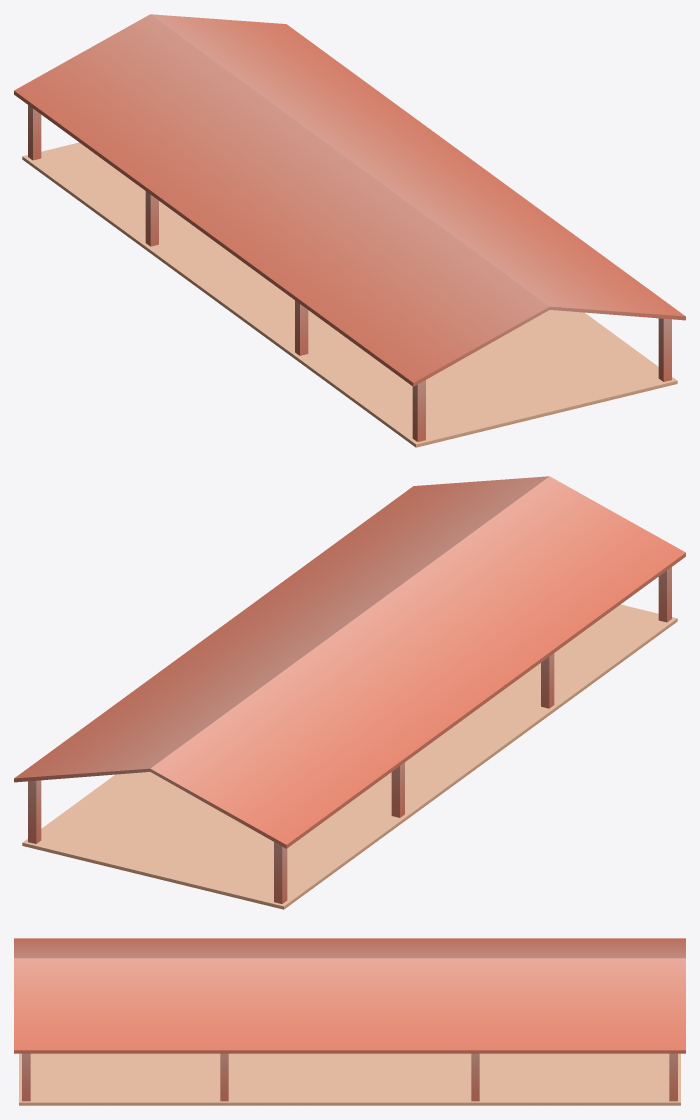
The model's file is PasarBuild2.fbx.
3 views of the same model, one above another, from view 1: azimuth 30°, elevation 25°; view 2: azimuth 150°, elevation 25°; view 3: azimuth 270°, elevation 25° (orthographic). The views are drawn at different scales.
Visible parts, largest first — view 1: PasarBuild2_LOD0; view 2: PasarBuild2_LOD0; view 3: PasarBuild2_LOD0.
Part boxes in pixels (<box>): PasarBuild2_LOD0: <box>14,14,685,447</box>; PasarBuild2_LOD0: <box>14,476,685,909</box>; PasarBuild2_LOD0: <box>14,938,685,1105</box>.
Bounding box in the file's own units: 3713 × 1449 × 9425.
